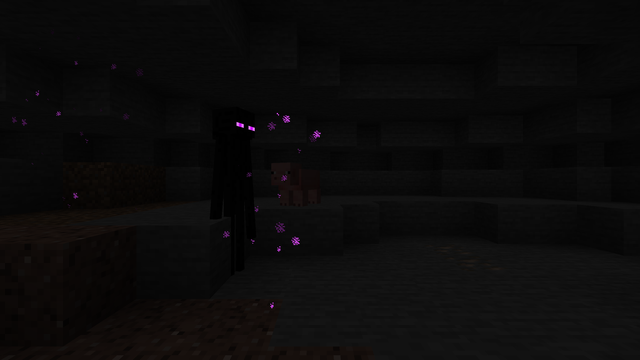cochons: (279, 168, 317, 206)
endermens: (209, 101, 254, 278)
